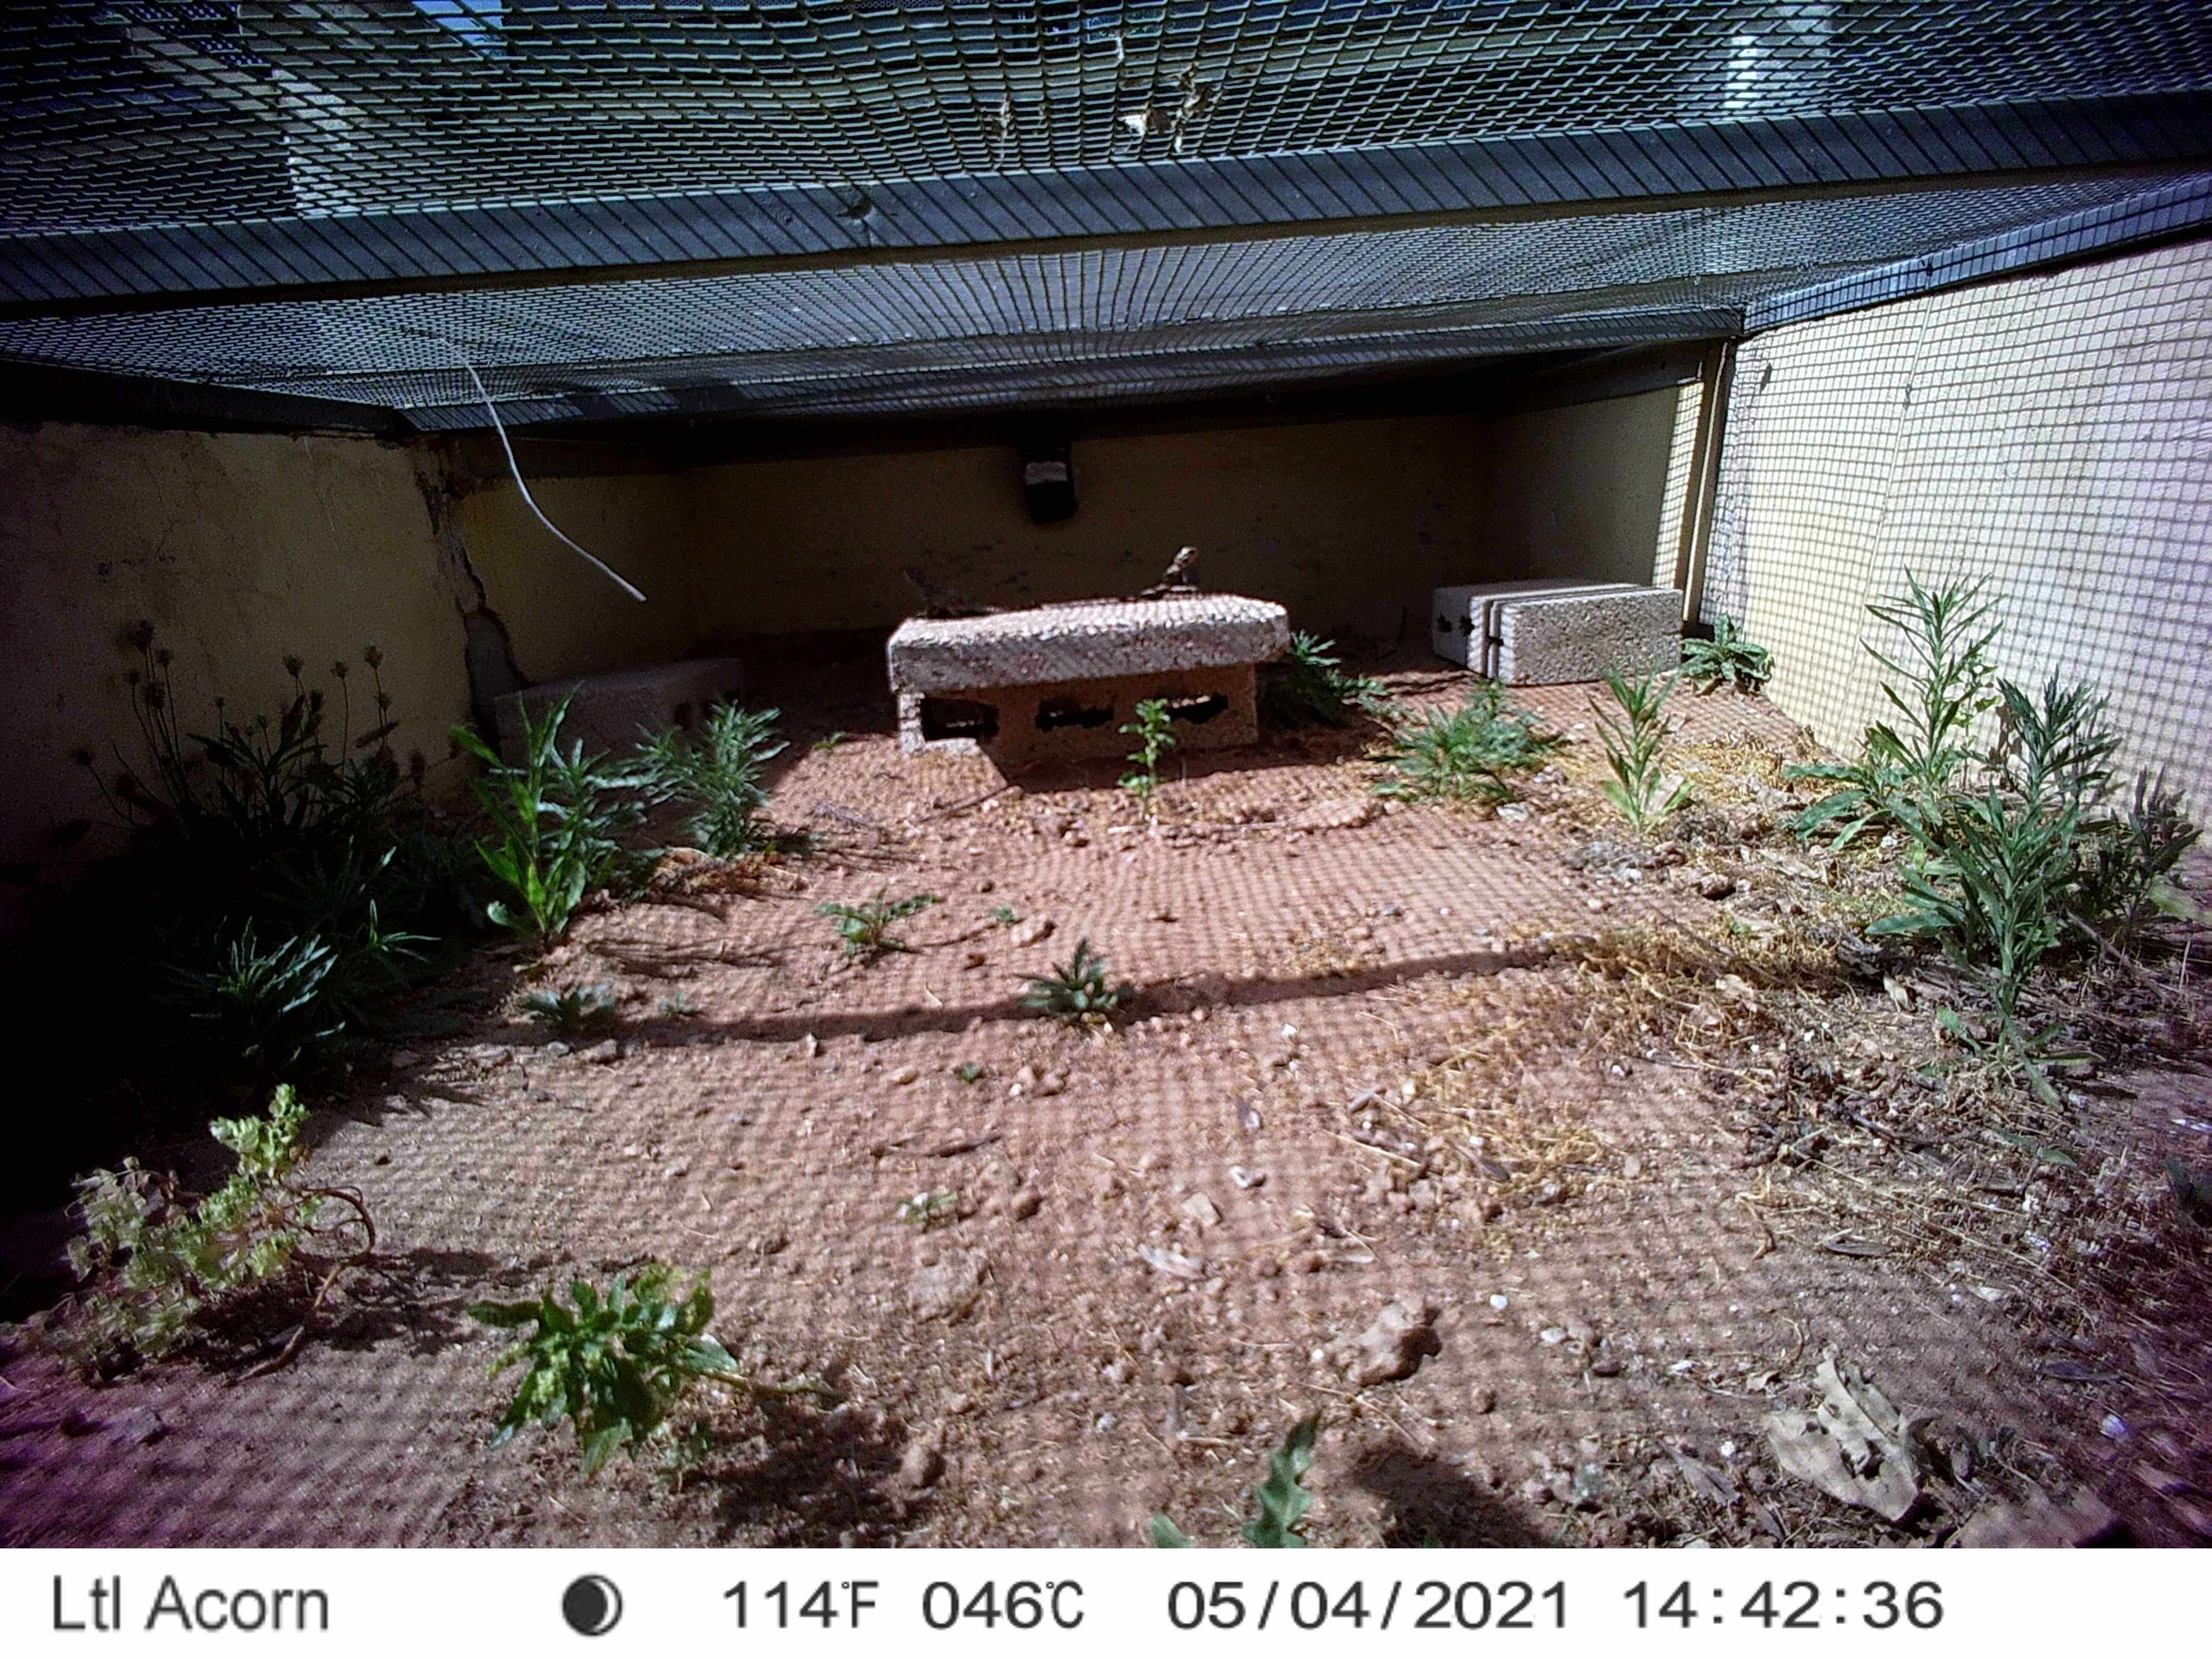lizard: (1087, 544, 1204, 610), (899, 563, 1019, 626)
